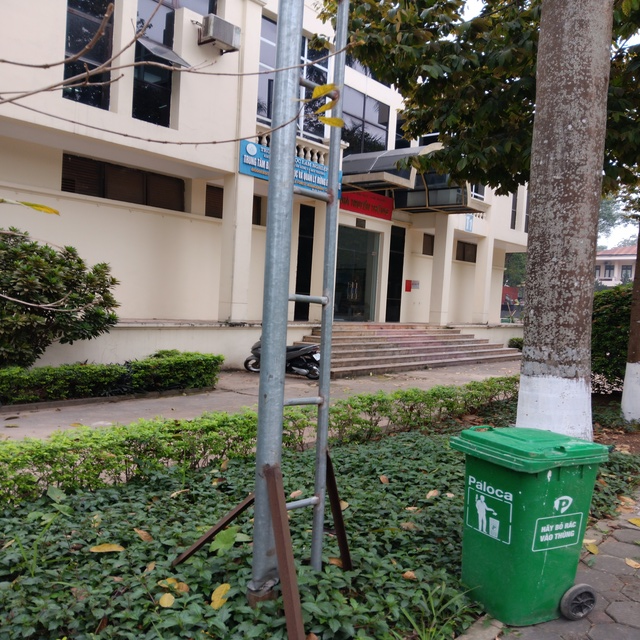thungrac: (446, 416, 607, 629)
